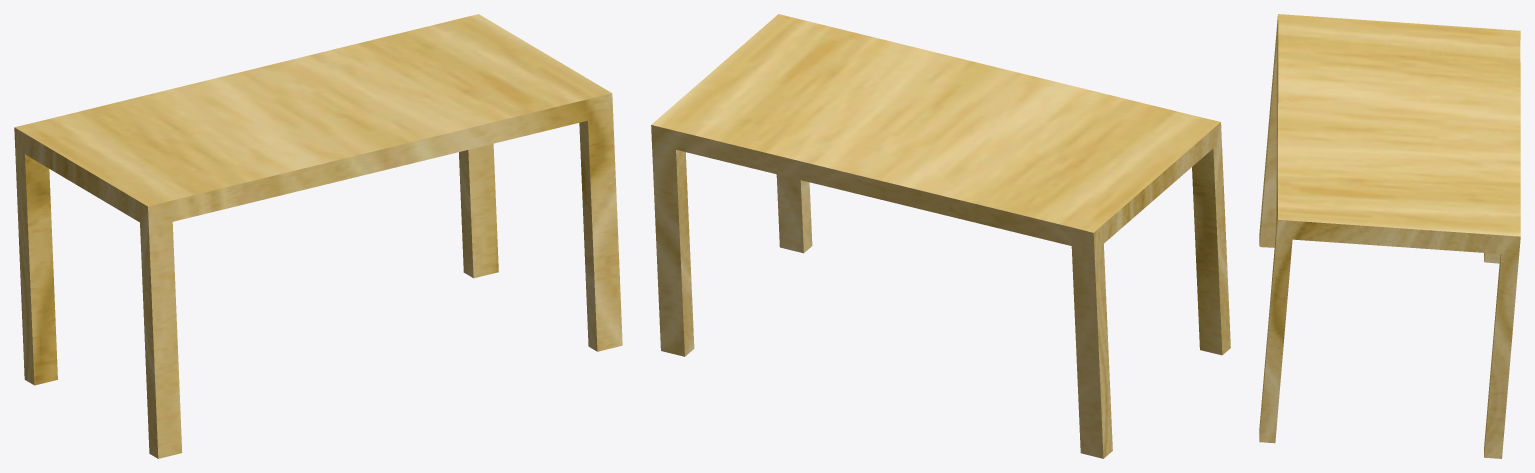
File: MejaPolos.gltf
3 renders of one model, left to right at view 1: azimuth 30°, elevation 25°; view 2: azimuth 150°, elevation 25°; view 3: azimuth 270°, elevation 25°, orthographic. The views are drawn at different scales.
Parts seen in each view (by area): view 1: Box; view 2: Box; view 3: Box.
Part boxes in pixels (x1=…): Box: x1=14, y1=14, x2=622, y2=458; Box: x1=651, y1=14, x2=1230, y2=458; Box: x1=1259, y1=14, x2=1520, y2=458.
Bounding box in the file's own units: 16.4 × 8.89 × 8.81.
Materials: 1 (1 with a texture image).
